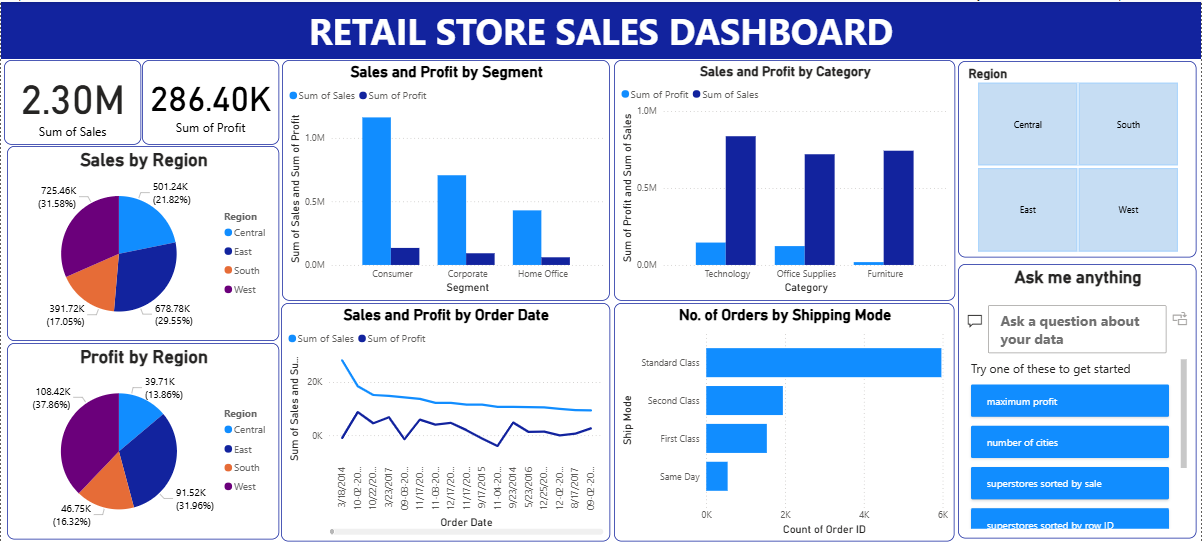

This screenshot's page, from the dashboard's own definition file:
{"tool":"powerbi","page":{"name":"Page 1","canvas":[1600,720],"ordinal":0},"visuals":[{"type":"textbox","box":[0,0,1600,75.7],"z":0},{"type":"card","fields":{"Values":["Sum(Superstore.Sales)"]},"box":[4,77.7,183,113.3],"z":1000},{"type":"card","fields":{"Values":["Sum(Superstore.Profit)"]},"box":[188.6,77.7,183,113.3],"z":2000},{"type":"pieChart","title":"Sales by Region","fields":{"Y":["Sum(Superstore.Sales)"],"Category":["Superstore.Region"]},"box":[7.6,192.3,363.4,260.4],"z":3000},{"type":"clusteredBarChart","title":"No. of Orders by Shipping Mode","fields":{"Category":["Superstore.Ship Mode"],"Y":["CountNonNull(Superstore.Order ID)"]},"box":[817.2,400.9,454.2,318.3],"z":4000},{"type":"lineChart","title":"Sales and Profit by Order Date","fields":{"Y":["Sum(Superstore.Sales)","Sum(Superstore.Profit)"],"Category":["Superstore.Order Date"]},"box":[373.3,400.9,438.7,318.3],"z":5000},{"type":"clusteredColumnChart","title":"Sales and Profit by Segment","fields":{"Category":["Superstore.Segment"],"Y":["Sum(Superstore.Sales)","Sum(Superstore.Profit)"]},"box":[374.8,77.7,437.2,320.6],"z":6000},{"type":"clusteredColumnChart","title":"Sales and Profit by Category","fields":{"Y":["Sum(Superstore.Profit)","Sum(Superstore.Sales)"],"Category":["Superstore.Category"]},"box":[816.9,77.7,455,320.6],"z":7000},{"type":"pieChart","title":"Profit by Region","fields":{"Y":["Sum(Superstore.Profit)"],"Category":["Superstore.Region"]},"box":[7.6,454.3,363.4,262],"z":8000},{"type":"slicer","fields":{"Values":["Superstore.Region"]},"box":[1276.6,79.1,318.3,261.5],"z":9000},{"type":"qnaVisual","title":"Ask me anything","box":[1276.6,349.2,318,366.5],"z":10000}]}

Visuals, with their boxes in screenshot pixels (x1, y1, x2, y2), scaled from the page's 1600x720 canvas onto the 1202x542 screenshot:
textbox: detection(0, 0, 1201, 57)
card - Sum(Superstore.Sales): detection(3, 58, 140, 144)
card - Sum(Superstore.Profit): detection(142, 58, 279, 144)
"Sales by Region" pieChart: detection(6, 145, 279, 341)
"No. of Orders by Shipping Mode" clusteredBarChart: detection(614, 302, 955, 541)
"Sales and Profit by Order Date" lineChart: detection(280, 302, 610, 541)
"Sales and Profit by Segment" clusteredColumnChart: detection(282, 58, 610, 300)
"Sales and Profit by Category" clusteredColumnChart: detection(614, 58, 956, 300)
"Profit by Region" pieChart: detection(6, 342, 279, 539)
slicer - Superstore.Region: detection(959, 60, 1198, 256)
"Ask me anything" qnaVisual: detection(959, 263, 1198, 539)
